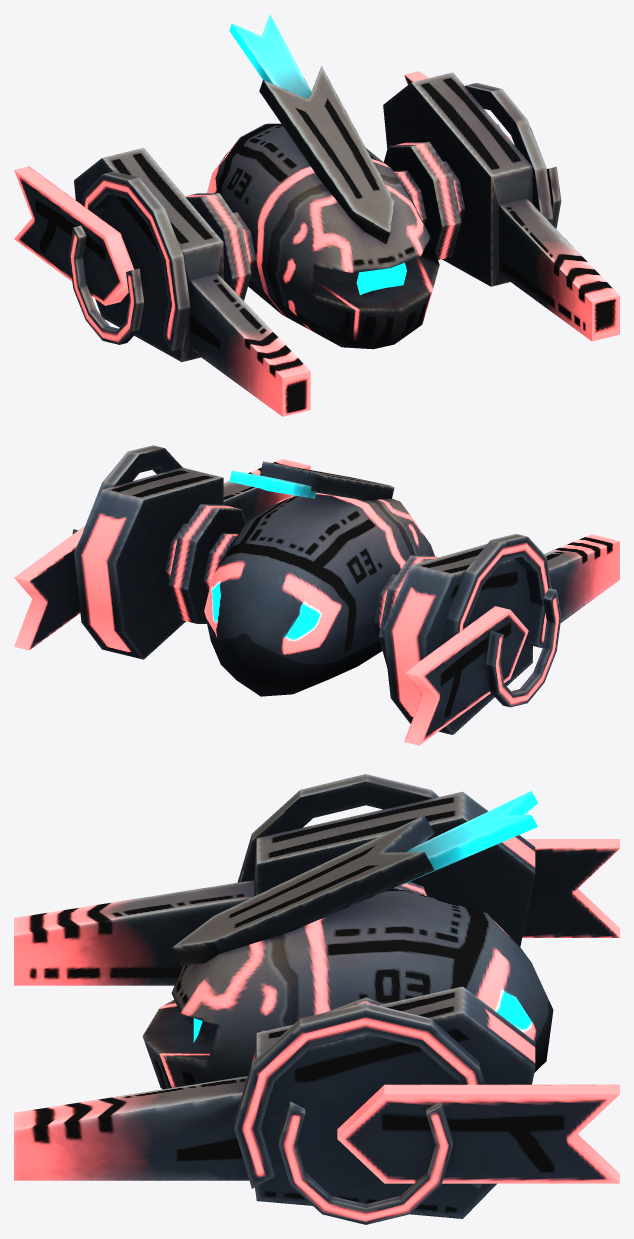
File: Enemy03_toNATOC.fbx
The picture shows the model from 3 angles, top to bottom: view 1: azimuth 30°, elevation 25°; view 2: azimuth 150°, elevation 25°; view 3: azimuth 270°, elevation 25°; orthographic projection. The views are drawn at different scales.
Parts seen in each view (by area): view 1: body, wingGun_L, wingGun_R, head_acc1, wing_R, circle_acc1_R, leg_L, leg_R, circle_acc2_R, circle_acc1_L, head_acc2, pCylinder20 (+1 smaller); view 2: body, wingGun_L, wingGun_R, wing_R, leg_L, circle_acc1_R, wing_L, circle_acc2_R, head_acc1, circle_acc1_L, leg_R, head_acc2; view 3: wingGun_L, body, wingGun_R, wing_L, head_acc1, circle_acc1_L, wing_R, circle_acc2_L, circle_acc1_R, head_acc2.
Part boxes in pixels (x1,y1,x2,y2): body: (207,123,439,349); wingGun_L: (383,72,619,341); wingGun_R: (74,148,310,416); head_acc1: (259,66,394,244); wing_R: (14,166,134,305); circle_acc1_R: (82,171,190,351); leg_L: (383,141,465,259); leg_R: (185,193,256,300); circle_acc2_R: (68,225,144,344); circle_acc1_L: (465,83,553,224); head_acc2: (229,14,311,99); pCylinder20: (356,262,406,294); body: (204,492,434,696); wingGun_L: (74,459,310,659); wingGun_R: (383,534,619,734); wing_R: (404,606,528,745); leg_L: (165,504,245,623); circle_acc1_R: (443,534,551,647); wing_L: (14,526,84,650); circle_acc2_R: (486,588,561,707); head_acc1: (260,461,394,500); circle_acc1_L: (76,445,182,583); leg_R: (373,555,438,667); head_acc2: (229,470,316,498); wingGun_L: (14,986,535,1218); body: (142,890,553,1089); wingGun_R: (14,791,535,985); wing_L: (337,1084,619,1183); head_acc1: (171,815,434,966); circle_acc1_L: (234,1002,486,1188); wing_R: (522,839,619,937); circle_acc2_L: (278,1101,452,1224); circle_acc1_R: (237,774,438,882); head_acc2: (398,791,537,885).
Size of the model in its own units: 128 by 69.74 by 122.
Materials: 1 (1 with a texture image).
